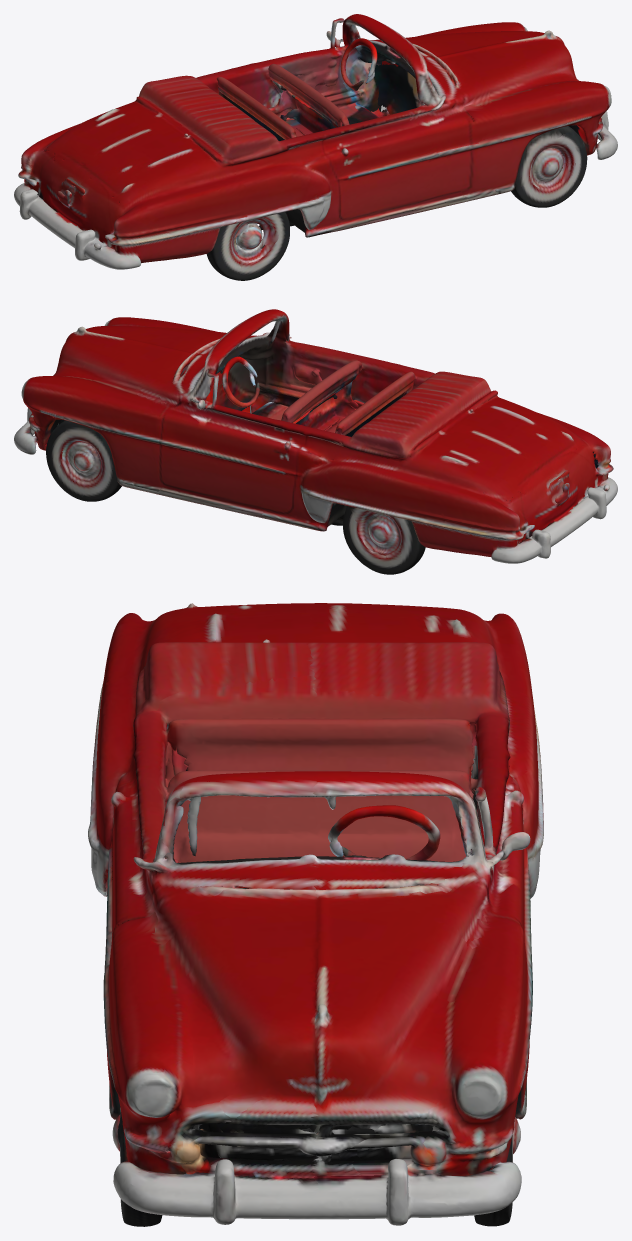
The model's file is classic_car_model.glb.
The picture shows the model from 3 angles, top to bottom: view 1: azimuth 30°, elevation 25°; view 2: azimuth 150°, elevation 25°; view 3: azimuth 270°, elevation 25°; orthographic projection. The views are drawn at different scales.
Visible parts, largest first — view 1: tripo_node_0cb986e8-e709-47a0-b27c-f0606fe6727f; view 2: tripo_node_0cb986e8-e709-47a0-b27c-f0606fe6727f; view 3: tripo_node_0cb986e8-e709-47a0-b27c-f0606fe6727f.
Part boxes in pixels (left/top/right/bottom): tripo_node_0cb986e8-e709-47a0-b27c-f0606fe6727f: left=14, top=14, right=617, bottom=280; tripo_node_0cb986e8-e709-47a0-b27c-f0606fe6727f: left=14, top=309, right=617, bottom=574; tripo_node_0cb986e8-e709-47a0-b27c-f0606fe6727f: left=88, top=603, right=543, bottom=1226.
Bounding box in the file's own units: 1 × 0.3001 × 0.3708.
1 material, 1 textured.
